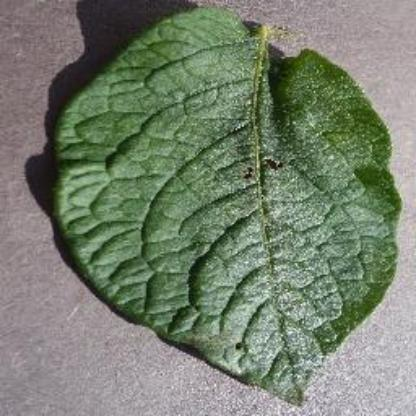Healthy-plant: (37, 9, 409, 405)
